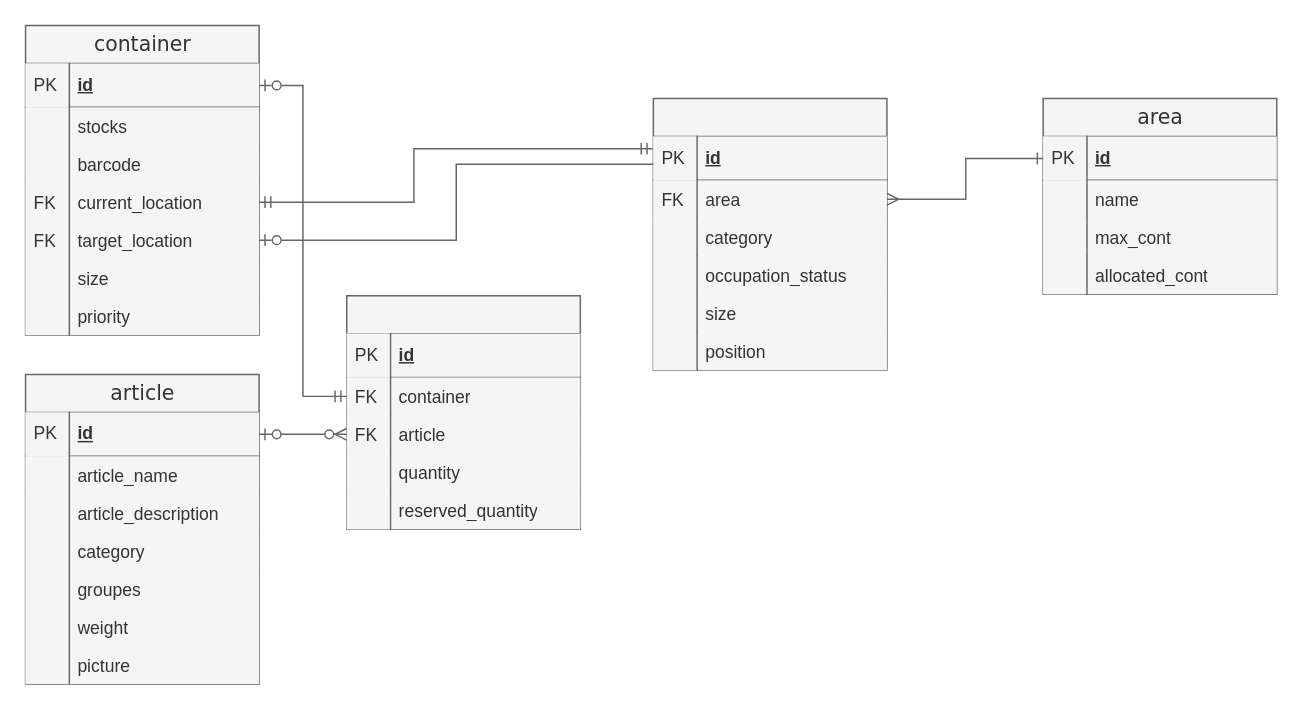
Some shapes in this 1302 by 714 pixel diagram are drawn without their labels. The shapes that lost their labels are listed below. From the top down, each one's box as (x1, y1, x2, y2) in pixels, then its label:
(652, 97, 887, 370): location
(345, 294, 580, 529): stock
